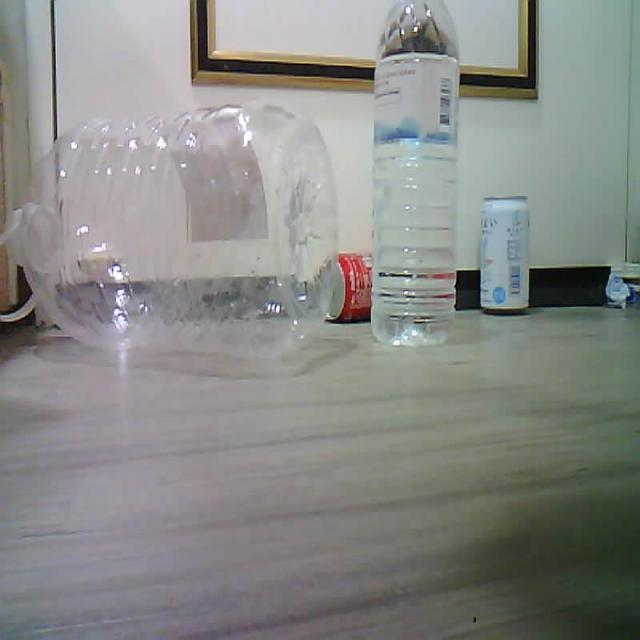bottle: (4, 103, 337, 356), (370, 0, 459, 346)
can: (481, 197, 530, 314), (327, 253, 370, 319)
